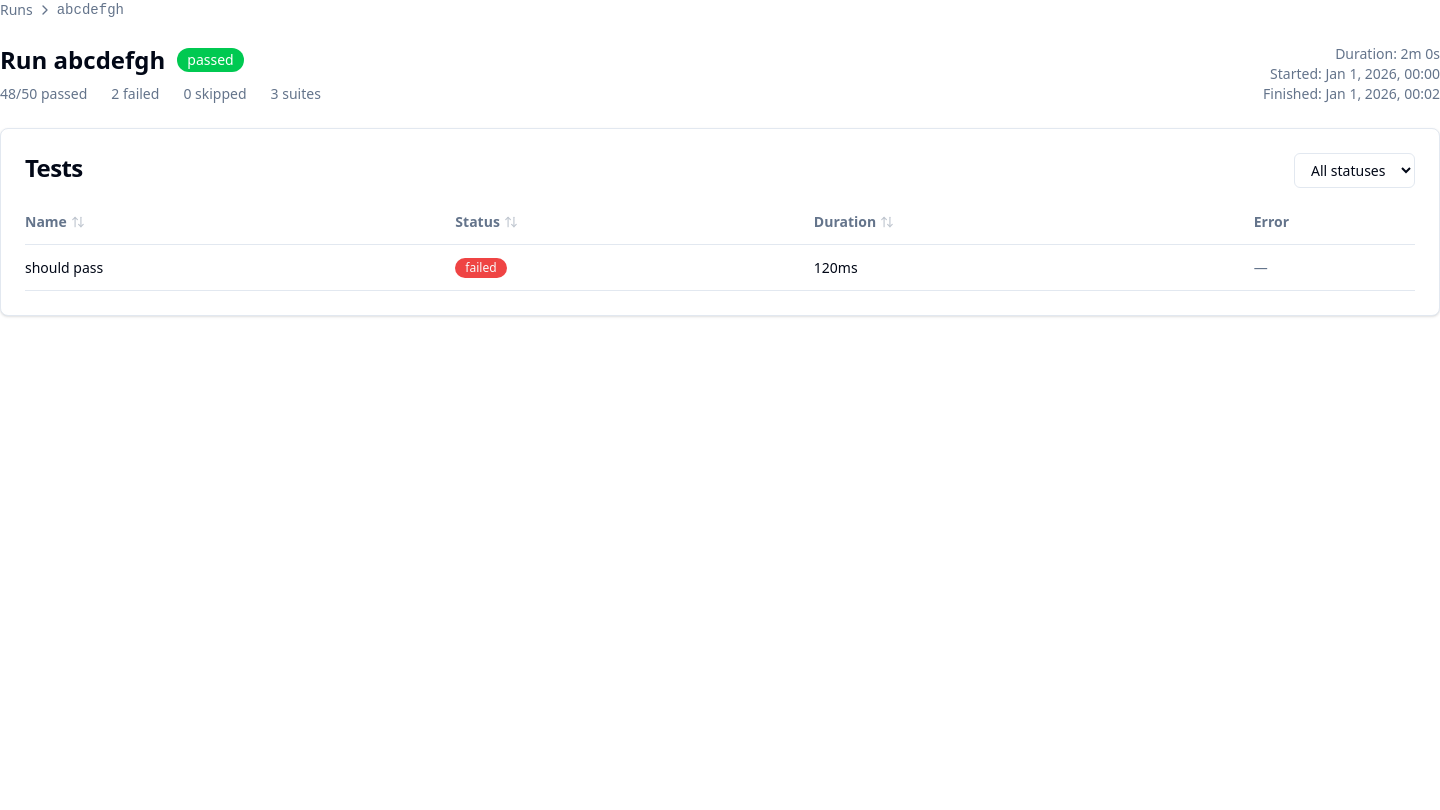
RunDetailPage › test detail drawer › shows stack trace section when stackTrace is present
Click the text "should pass" at (64, 267), box [25,244,455,290]
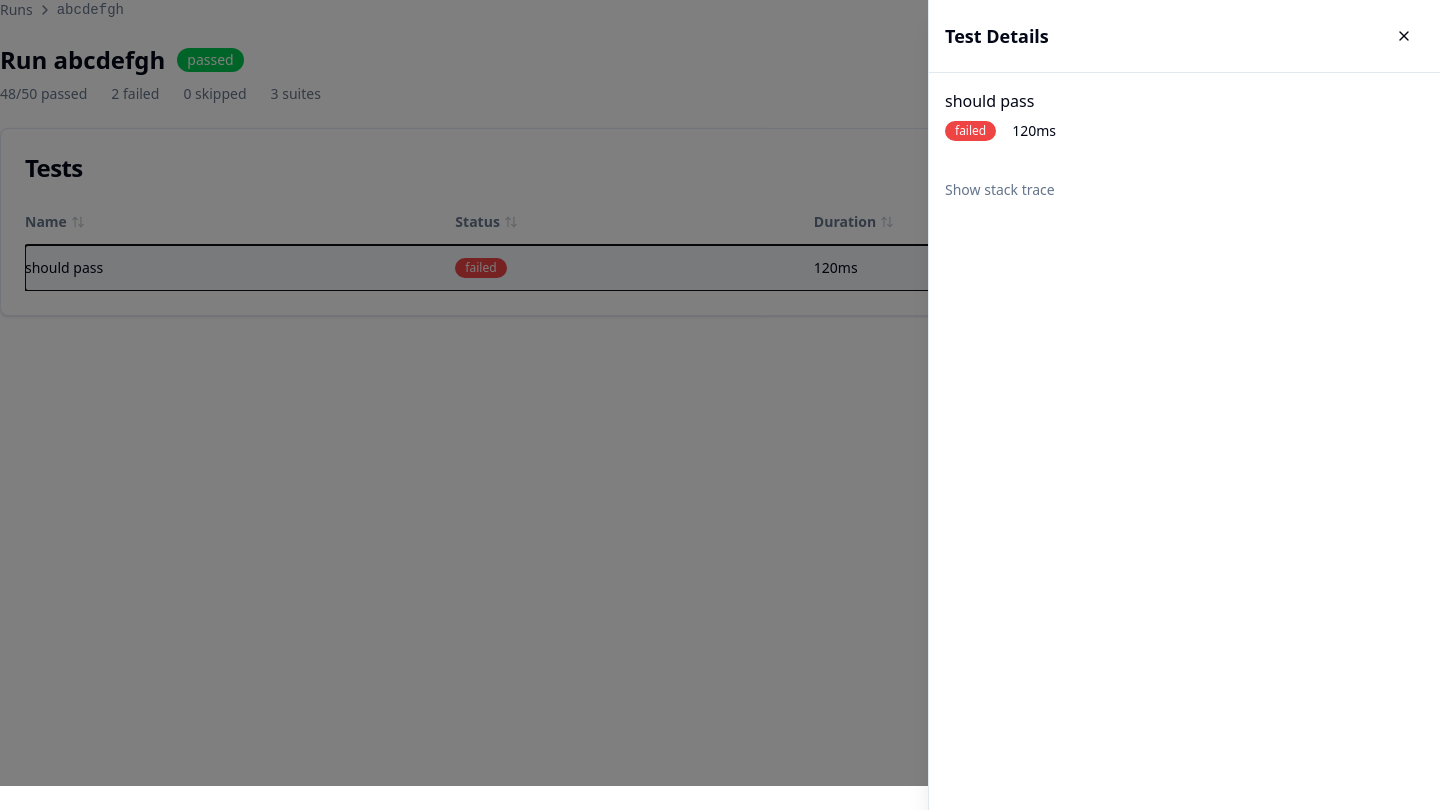
Result: the button "Show stack trace" is shown at [945,180,1055,200]
